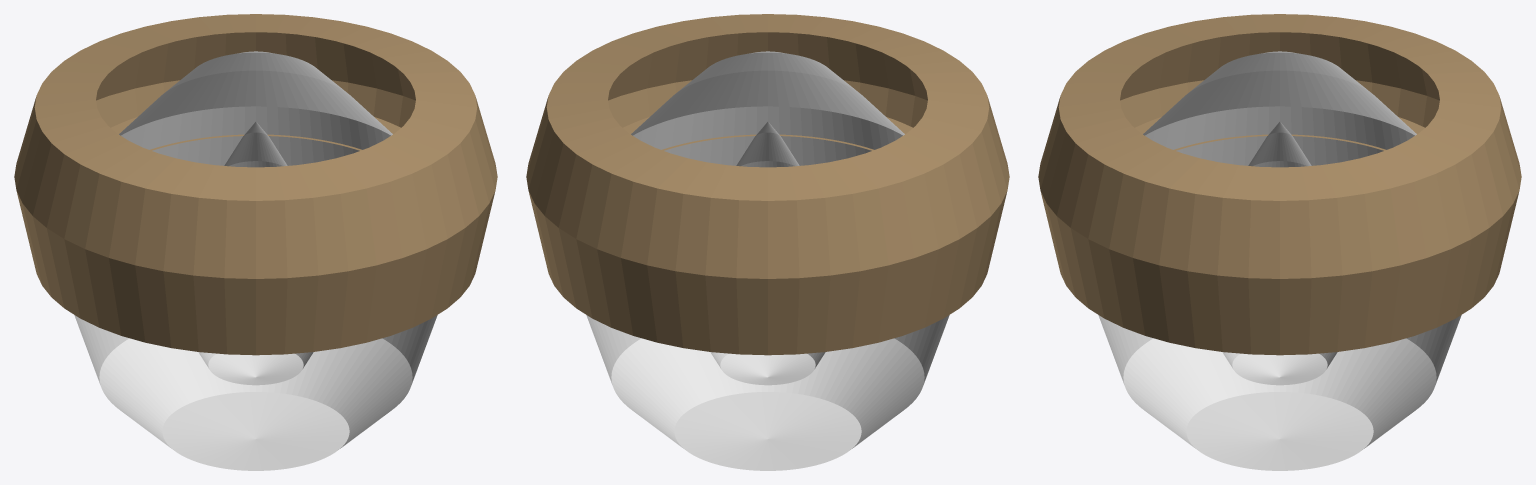
Rendered from emberveil.glb.
The picture shows the model from 3 angles, left to right: view 1: azimuth 30°, elevation 25°; view 2: azimuth 150°, elevation 25°; view 3: azimuth 270°, elevation 25°; orthographic projection.
Visible parts, largest first — view 1: filigree_arc, filigree_arc_01, glass_bell, filigree_arc_02, ember_core, brass_band; view 2: filigree_arc, filigree_arc_01, glass_bell, filigree_arc_02, ember_core, brass_band; view 3: filigree_arc, filigree_arc_01, glass_bell, filigree_arc_02, ember_core, brass_band.
Part boxes in pixels (bbox=[...]): filigree_arc: bbox=[14, 14, 497, 355]; filigree_arc_01: bbox=[14, 14, 497, 354]; glass_bell: bbox=[74, 51, 437, 470]; filigree_arc_02: bbox=[20, 14, 489, 354]; ember_core: bbox=[198, 122, 313, 385]; brass_band: bbox=[111, 117, 400, 150]; filigree_arc: bbox=[527, 14, 1009, 355]; filigree_arc_01: bbox=[532, 14, 1000, 354]; glass_bell: bbox=[586, 51, 949, 470]; filigree_arc_02: bbox=[526, 14, 1009, 355]; ember_core: bbox=[710, 122, 825, 385]; brass_band: bbox=[623, 117, 912, 150]; filigree_arc: bbox=[1042, 14, 1513, 354]; filigree_arc_01: bbox=[1038, 14, 1521, 355]; glass_bell: bbox=[1098, 51, 1461, 470]; filigree_arc_02: bbox=[1039, 14, 1521, 354]; ember_core: bbox=[1222, 122, 1337, 385]; brass_band: bbox=[1135, 117, 1424, 150].
Size of what is drawn, in the model's own units: 2.84 by 2.48 by 2.84.
